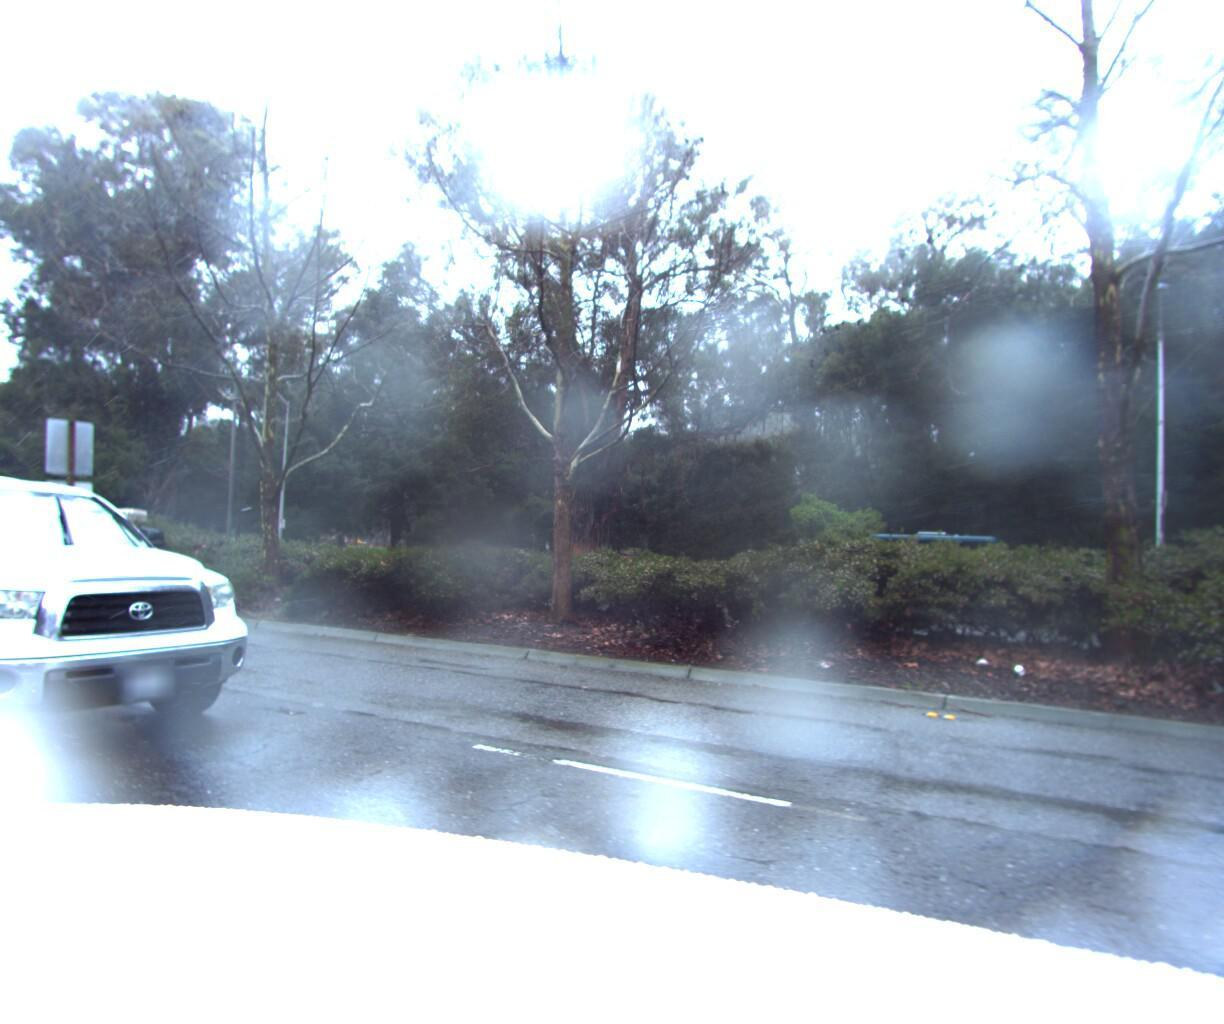car: (0, 438, 286, 790)
other_vehicle: (27, 505, 162, 573)
